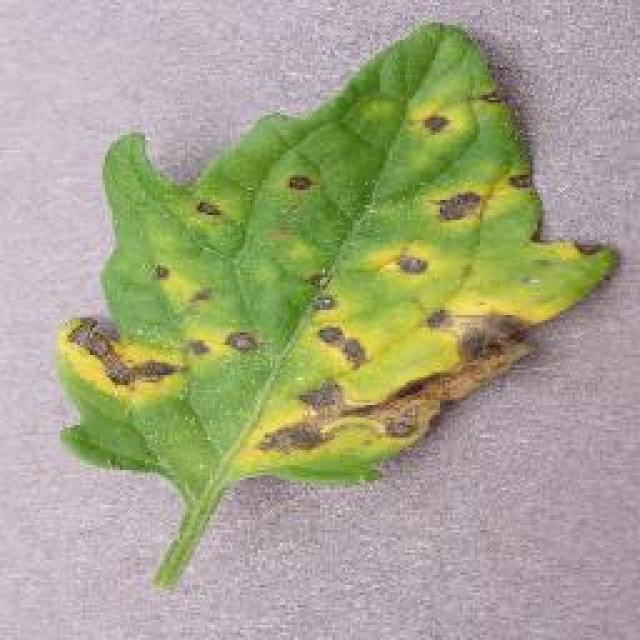Tomato Septoria spot leaf: (60, 23, 620, 487)
